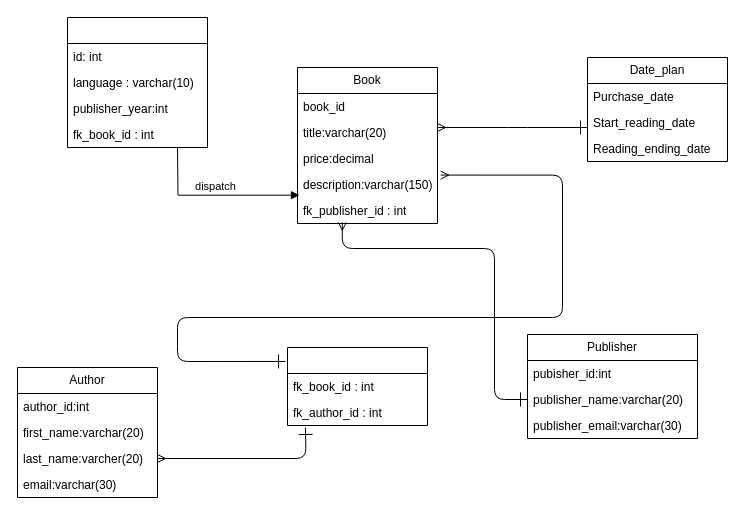
The diagram is 745 pixels wide and 518 high, and some of its shapes have lost their labels. Each missing label, with the box of its shape:
book_authors: (286, 346, 428, 426)
Classname: (66, 16, 208, 148)
